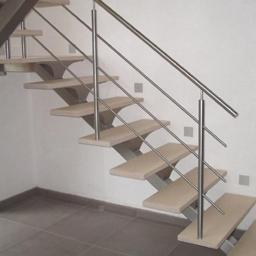Escaleras: (1, 2, 251, 254)
